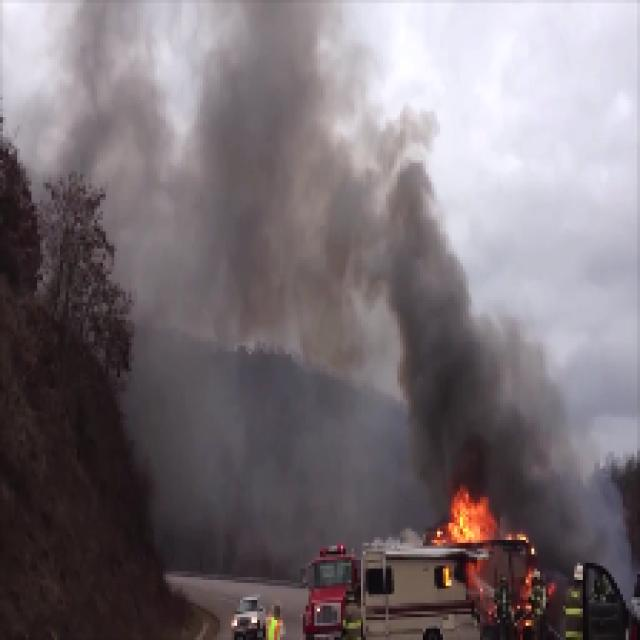fire: (432, 494, 503, 546)
smoke: (63, 2, 352, 337), (364, 136, 466, 429), (479, 317, 590, 492)
